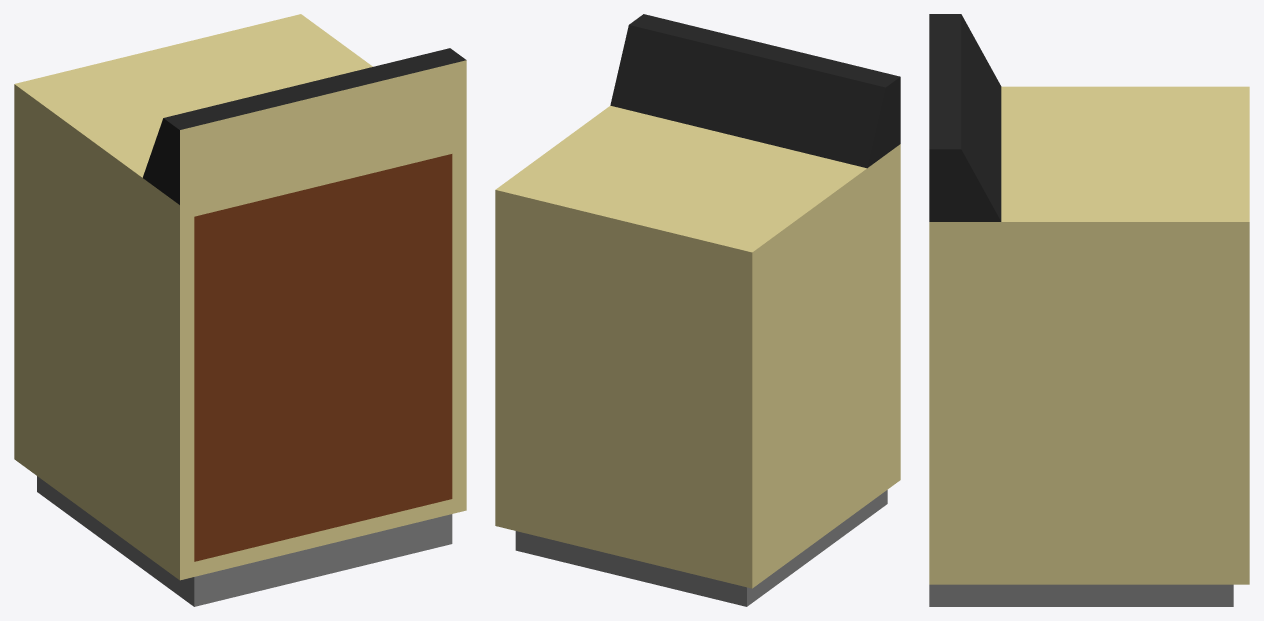
Rendered from washer.fbx.
3 views of the same model, side by side, from view 1: azimuth 30°, elevation 25°; view 2: azimuth 150°, elevation 25°; view 3: azimuth 270°, elevation 25° (orthographic). The views are drawn at different scales.
Parts seen in each view (by area): view 1: Cube; view 2: Cube; view 3: Cube.
Part boxes in pixels (x1=…): Cube: x1=14, y1=14, x2=466, y2=606; Cube: x1=495, y1=14, x2=900, y2=606; Cube: x1=929, y1=14, x2=1249, y2=606.
Size of the model in its own units: 34.67 by 55.47 by 34.67.
